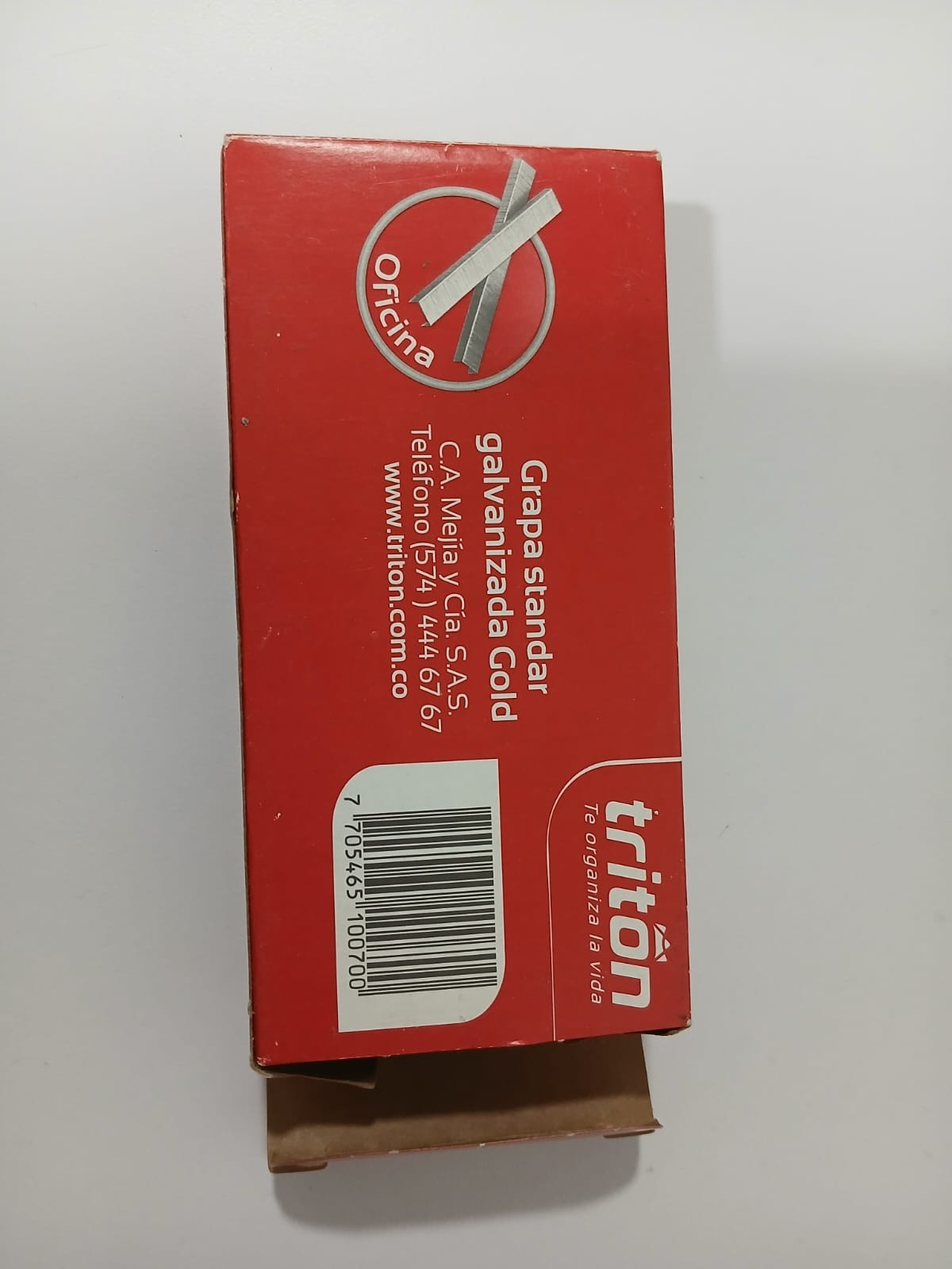Carton: (228, 138, 689, 1172)
